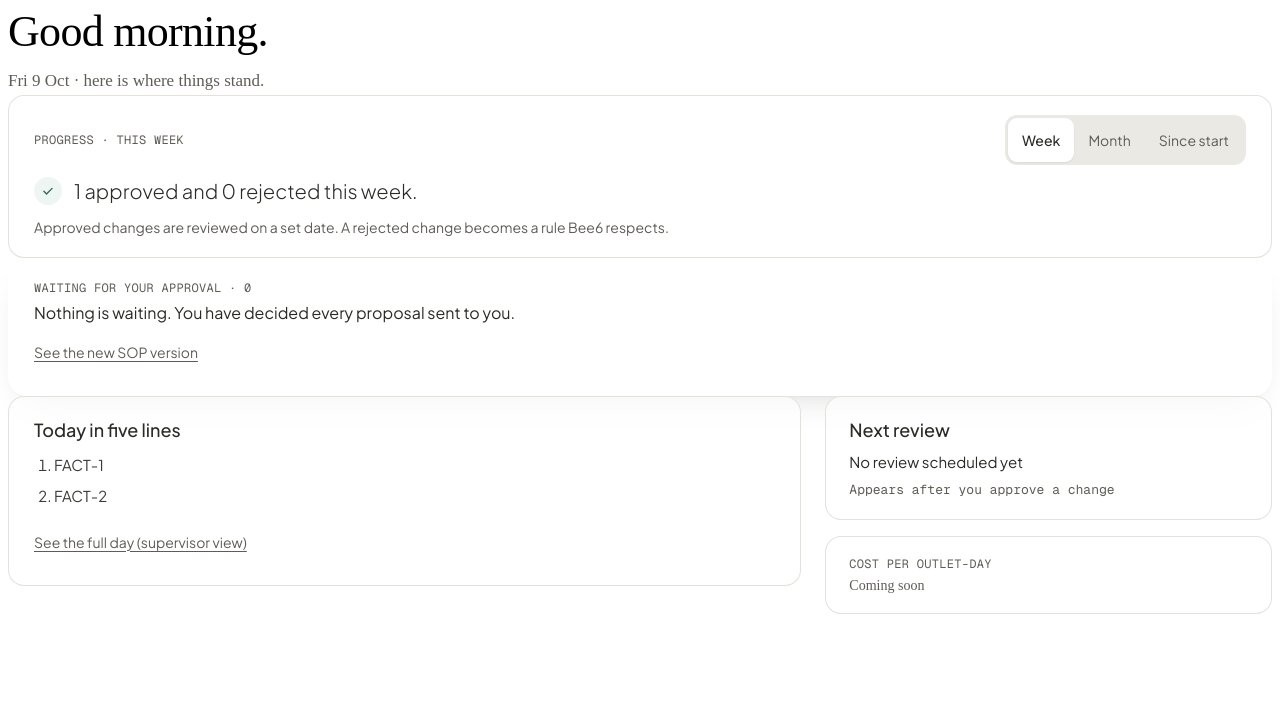
Test: HomeView: progress as one sentence (W4, W6, R15) › switching to Month and Since start changes the sentence and the kicker
Click the button "Month".
click(1110, 140)  # box [1074,118,1145,162]
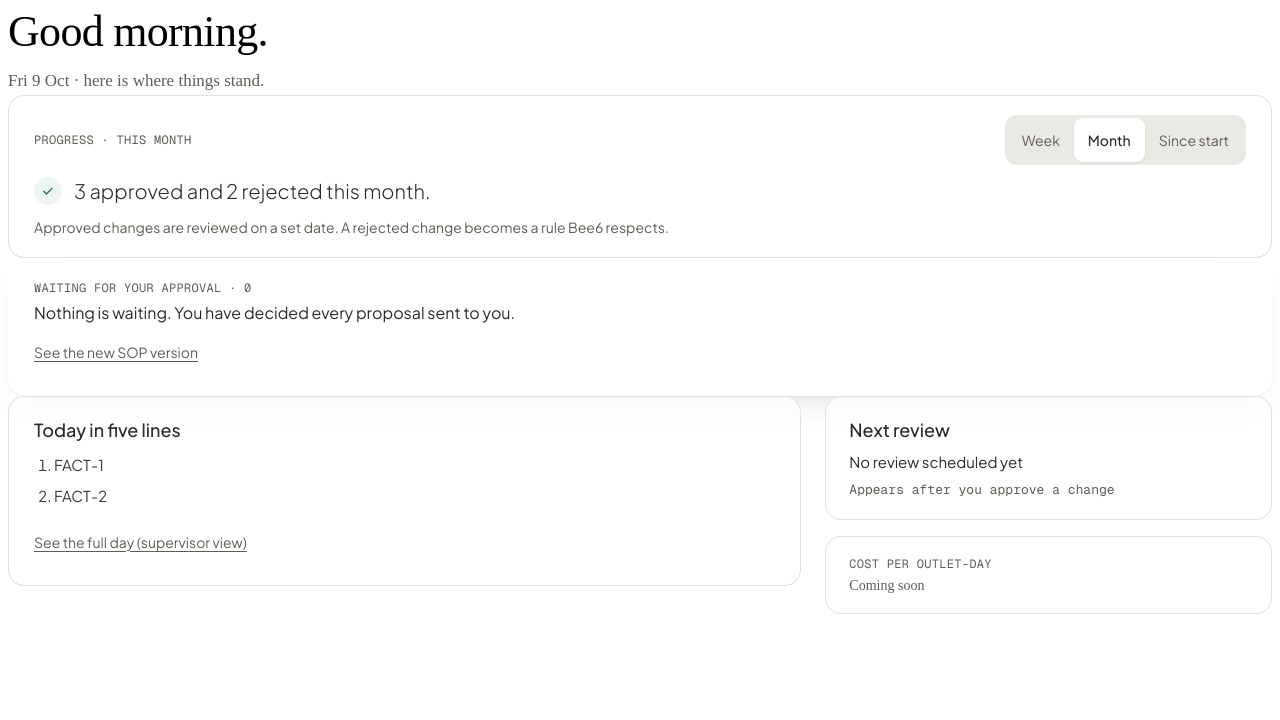
Result: the text "3 approved and 2 rejected this month." is shown at [74,177,430,204]
Result: the heading "PROGRESS · THIS MONTH" is shown at [34,132,192,148]
Click the button "Since start".
click(1194, 140)  # box [1145,118,1243,162]
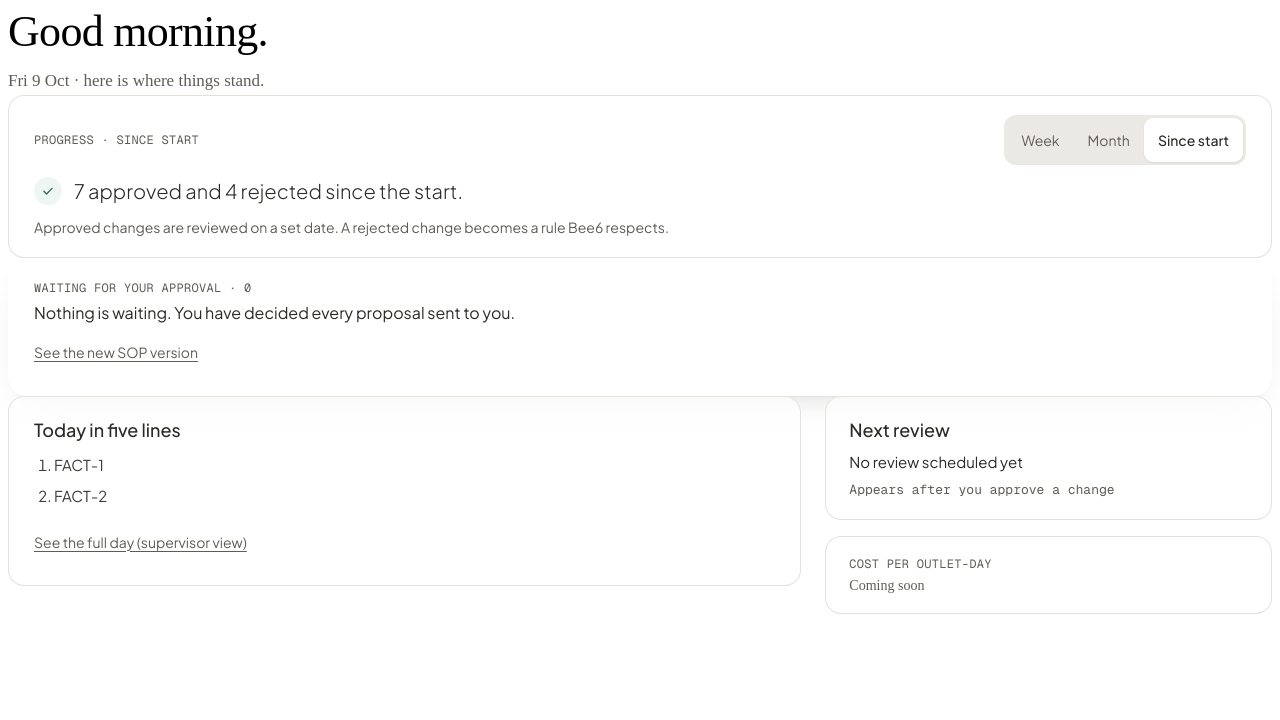
Result: the text "7 approved and 4 rejected since the start." is shown at [74,177,463,204]
Result: the heading "PROGRESS · SINCE START" is shown at [34,132,199,148]
